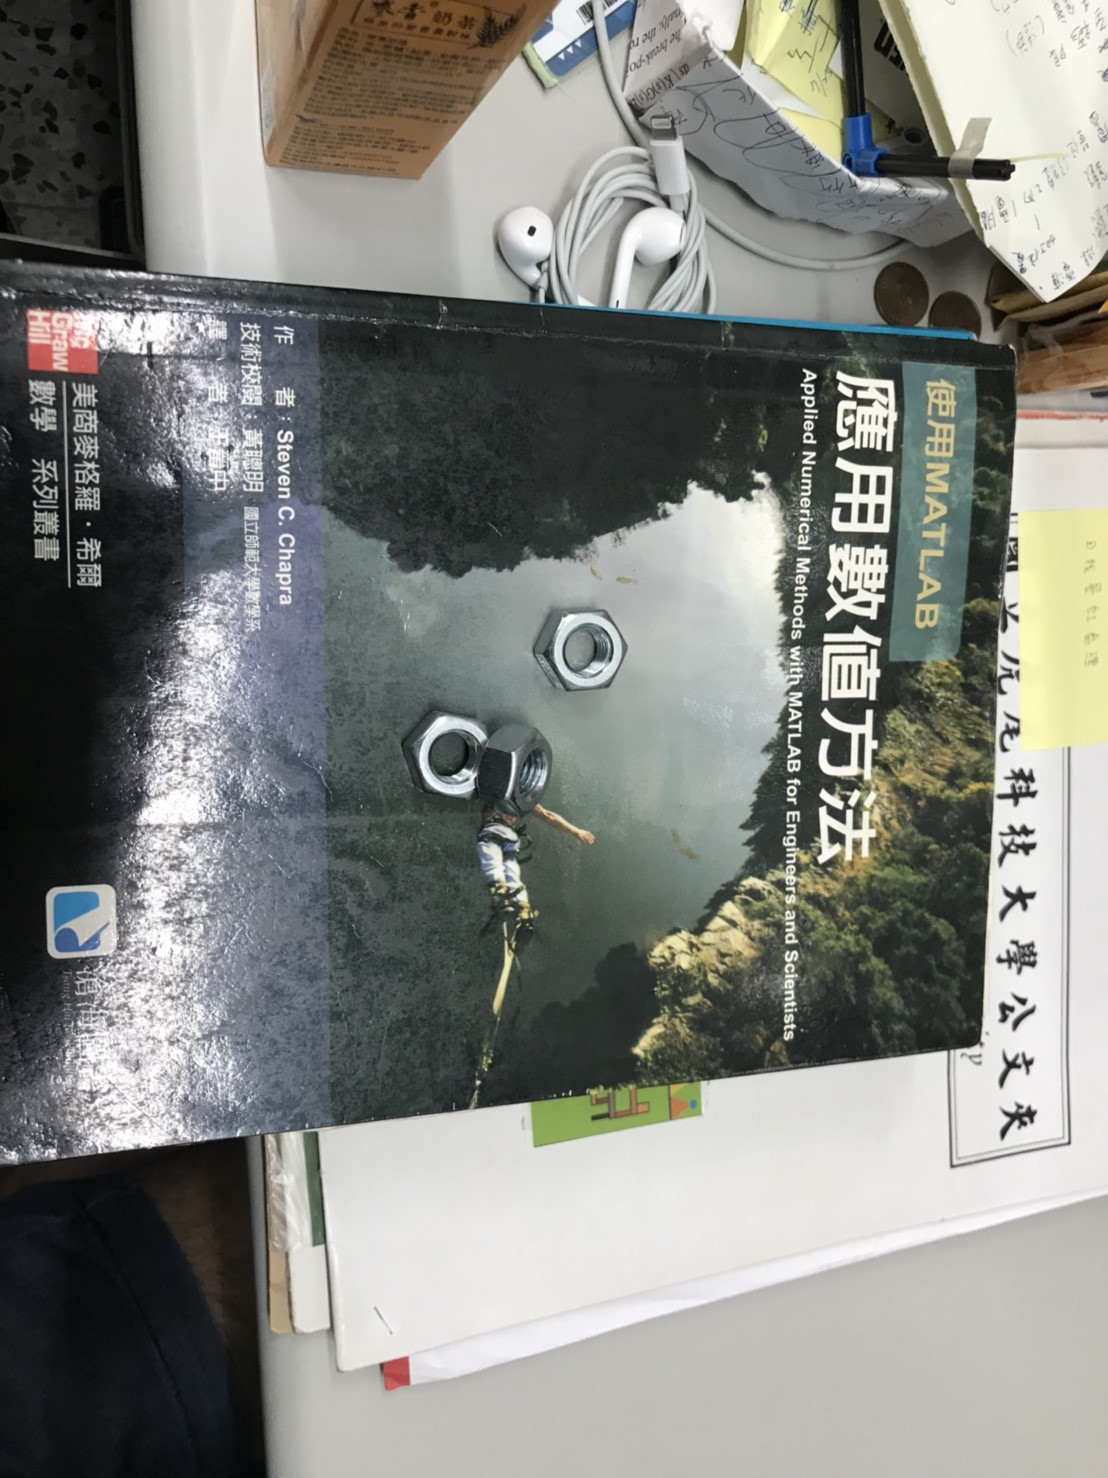nut: (527, 598, 637, 698), (481, 725, 573, 827), (404, 698, 488, 804)
